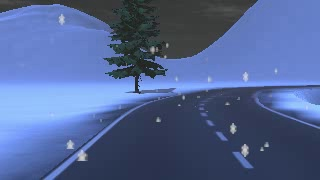Lane: (50, 85, 319, 179)
